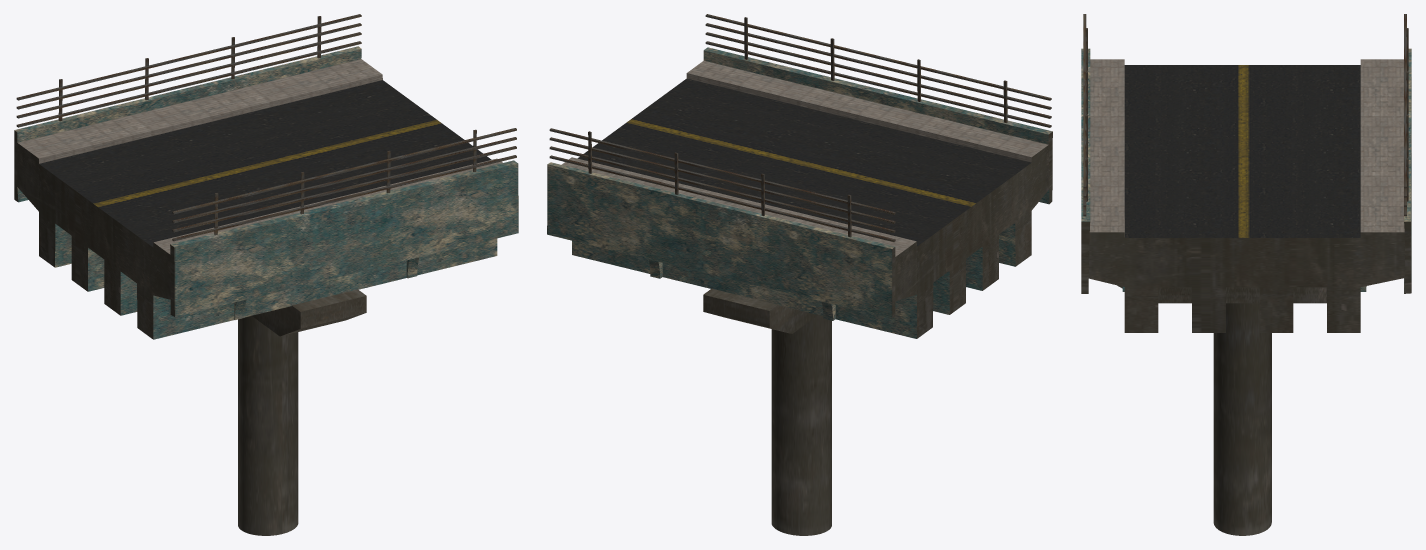
Rendered from modular_road_bridge.glb.
3 renders of one model, left to right at view 1: azimuth 30°, elevation 25°; view 2: azimuth 150°, elevation 25°; view 3: azimuth 270°, elevation 25°, orthographic. The views are drawn at different scales.
Visible parts, largest first — view 1: deck_0, deck_3, deck_1, pier, deck_4; view 2: deck_0, deck_3, deck_1, pier, deck_4; view 3: deck_3, deck_1, deck_0, pier, deck_4.
Part boxes in pixels (box(x1,y1,x2,y2)): deck_0: box(14, 46, 518, 339); deck_3: box(39, 80, 491, 247); deck_1: box(14, 130, 366, 339); pier: box(238, 316, 298, 535); deck_4: box(16, 14, 516, 241); deck_0: box(547, 47, 1052, 338); deck_3: box(577, 78, 1031, 246); deck_1: box(703, 131, 1052, 338); pier: box(771, 315, 831, 535); deck_4: box(549, 14, 1051, 241); deck_3: box(1124, 65, 1360, 237); deck_1: box(1081, 221, 1411, 332); deck_0: box(1081, 48, 1411, 292); pier: box(1213, 303, 1271, 535); deck_4: box(1083, 14, 1408, 216).
Bounding box in the file's own units: 1 × 1.16 × 0.8067.
4 materials, 4 textured.
